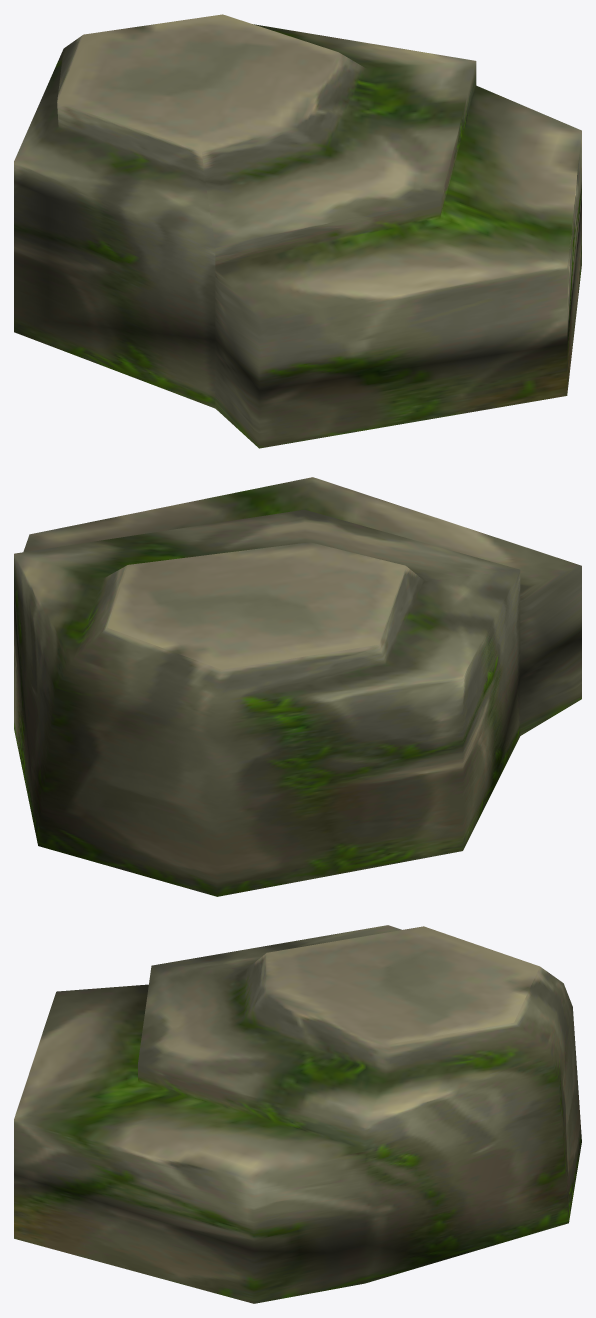
The model's file is RockFormation_4_5 (14).fbx.
3 renders of one model, top to bottom at view 1: azimuth 30°, elevation 25°; view 2: azimuth 150°, elevation 25°; view 3: azimuth 270°, elevation 25°, orthographic. The views are drawn at different scales.
Visible parts, largest first — view 1: RockFormation_4_5 (14); view 2: RockFormation_4_5 (14); view 3: RockFormation_4_5 (14).
Boxes of the visible parts, x1,y1,x2,y2 form: RockFormation_4_5 (14): (14,14,581,448); RockFormation_4_5 (14): (14,477,581,896); RockFormation_4_5 (14): (14,925,581,1303).
Bounding box in the file's own units: 1263 × 487 × 1365.
